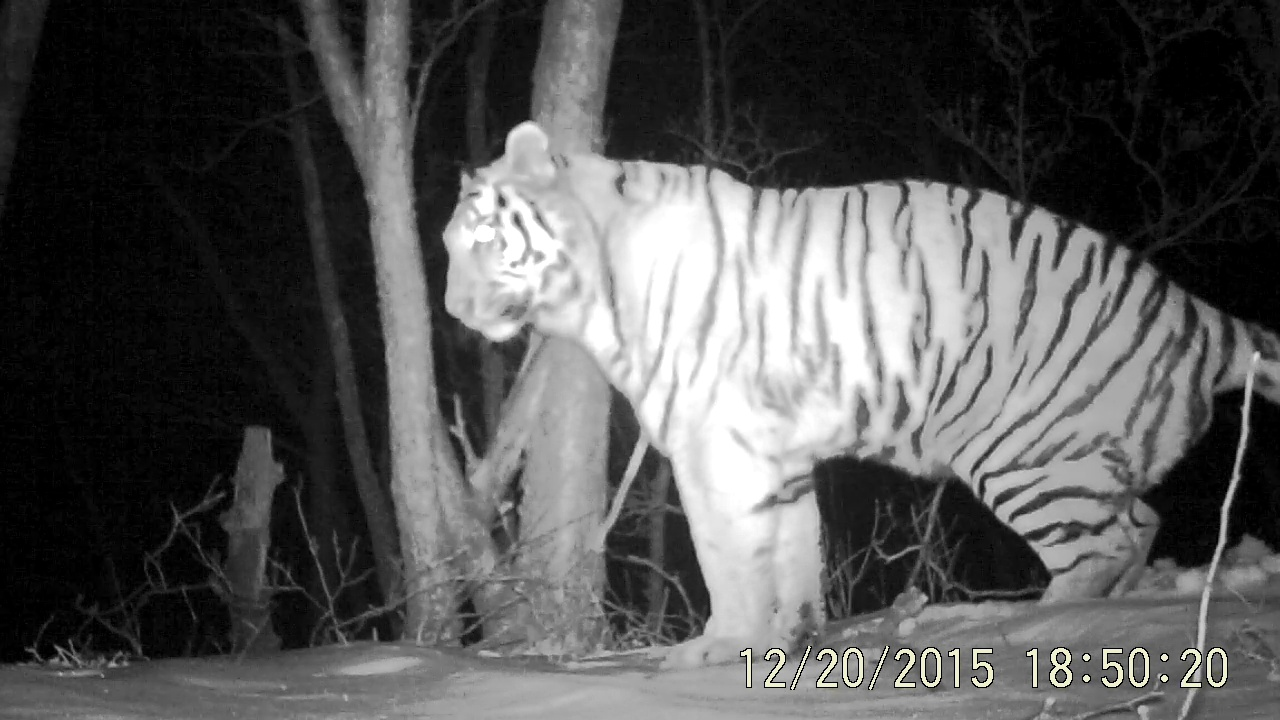Tiger: (415, 95, 1266, 611)
